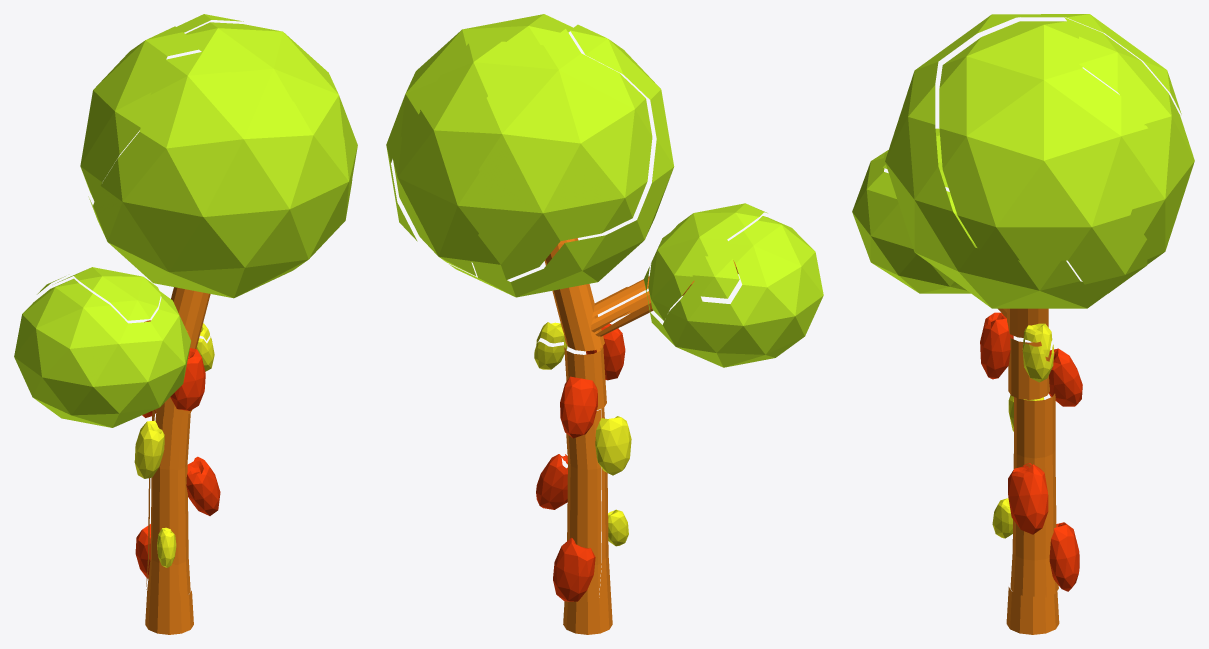
Rendered from cacaotree-explosion.glb.
The picture shows the model from 3 angles, left to right: view 1: azimuth 30°, elevation 25°; view 2: azimuth 150°, elevation 25°; view 3: azimuth 270°, elevation 25°; orthographic projection. The views are drawn at different scales.
Parts seen in each view (by area): view 1: cacaotree.015, cacaotree.014, cacaotree.007, cacaotree.021, cacaotree.016, cacaotree.005, cacaotree.023, cacaotree.006, cacaotree.004, cacaotree.018, cacaotree.020, cacaotree.019 (+1 smaller); view 2: cacaotree.021, cacaotree.009, cacaotree.014, cacaotree.015, cacaotree.005, cacaotree.007, cacaotree.023, cacaotree.016, cacaotree.020, cacaotree.024, cacaotree.001, cacaotree.004 (+8 smaller); view 3: cacaotree.007, cacaotree.015, cacaotree.009, cacaotree.023, cacaotree.014, cacaotree.006, cacaotree.016, cacaotree.018, cacaotree.024, cacaotree.022, cacaotree.001, cacaotree.021 (+4 smaller).
Part boxes in pixels (x1=…): cacaotree.015: x1=88, y1=51, x2=353, y2=298; cacaotree.014: x1=14, y1=278, x2=191, y2=427; cacaotree.007: x1=186, y1=22, x2=357, y2=175; cacaotree.021: x1=80, y1=26, x2=204, y2=201; cacaotree.016: x1=145, y1=413, x2=193, y2=634; cacaotree.005: x1=55, y1=267, x2=160, y2=320; cacaotree.023: x1=146, y1=410, x2=190, y2=597; cacaotree.006: x1=186, y1=456, x2=220, y2=515; cacaotree.004: x1=134, y1=420, x2=164, y2=478; cacaotree.018: x1=170, y1=348, x2=205, y2=410; cacaotree.020: x1=171, y1=287, x2=210, y2=348; cacaotree.019: x1=157, y1=527, x2=176, y2=567; cacaotree.021: x1=466, y1=29, x2=652, y2=280; cacaotree.009: x1=393, y1=41, x2=542, y2=275; cacaotree.014: x1=643, y1=216, x2=823, y2=367; cacaotree.015: x1=449, y1=24, x2=674, y2=297; cacaotree.005: x1=648, y1=203, x2=767, y2=320; cacaotree.007: x1=386, y1=14, x2=572, y2=241; cacaotree.023: x1=566, y1=409, x2=601, y2=601; cacaotree.016: x1=563, y1=407, x2=612, y2=634; cacaotree.020: x1=544, y1=238, x2=604, y2=351; cacaotree.024: x1=553, y1=537, x2=595, y2=601; cacaotree.001: x1=560, y1=376, x2=597, y2=438; cacaotree.004: x1=595, y1=416, x2=631, y2=475; cacaotree.007: x1=939, y1=21, x2=1148, y2=293; cacaotree.015: x1=885, y1=14, x2=1107, y2=308; cacaotree.009: x1=1064, y1=17, x2=1194, y2=264; cacaotree.023: x1=1010, y1=393, x2=1058, y2=597; cacaotree.014: x1=852, y1=150, x2=977, y2=293; cacaotree.006: x1=1008, y1=464, x2=1048, y2=534; cacaotree.016: x1=1006, y1=587, x2=1059, y2=634; cacaotree.018: x1=980, y1=312, x2=1013, y2=379; cacaotree.024: x1=1049, y1=522, x2=1079, y2=591; cacaotree.022: x1=1008, y1=337, x2=1049, y2=399; cacaotree.001: x1=1049, y1=348, x2=1082, y2=406; cacaotree.021: x1=1020, y1=14, x2=1181, y2=114.
Bounding box in the file's own units: 5.28 × 8.33 × 4.13.
